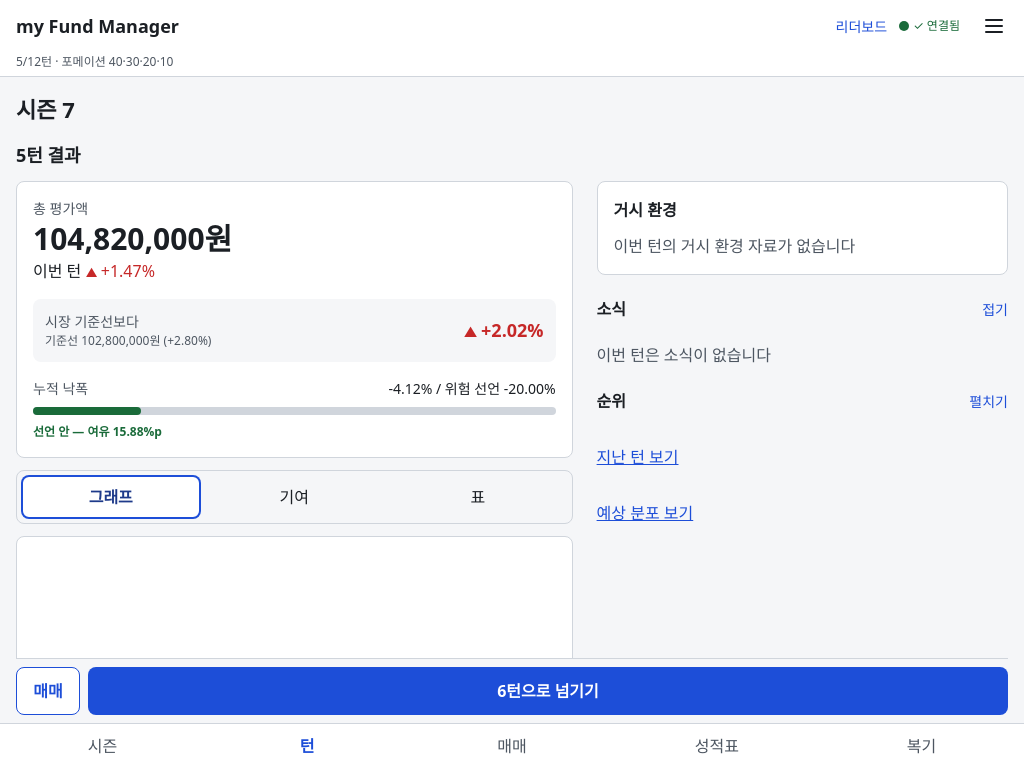
Test: ranking on the now page › asks for the board of the new turn after an advance, never a later one
Click the button "순위 펼치기": [989, 401] box [597,379,1008,423]
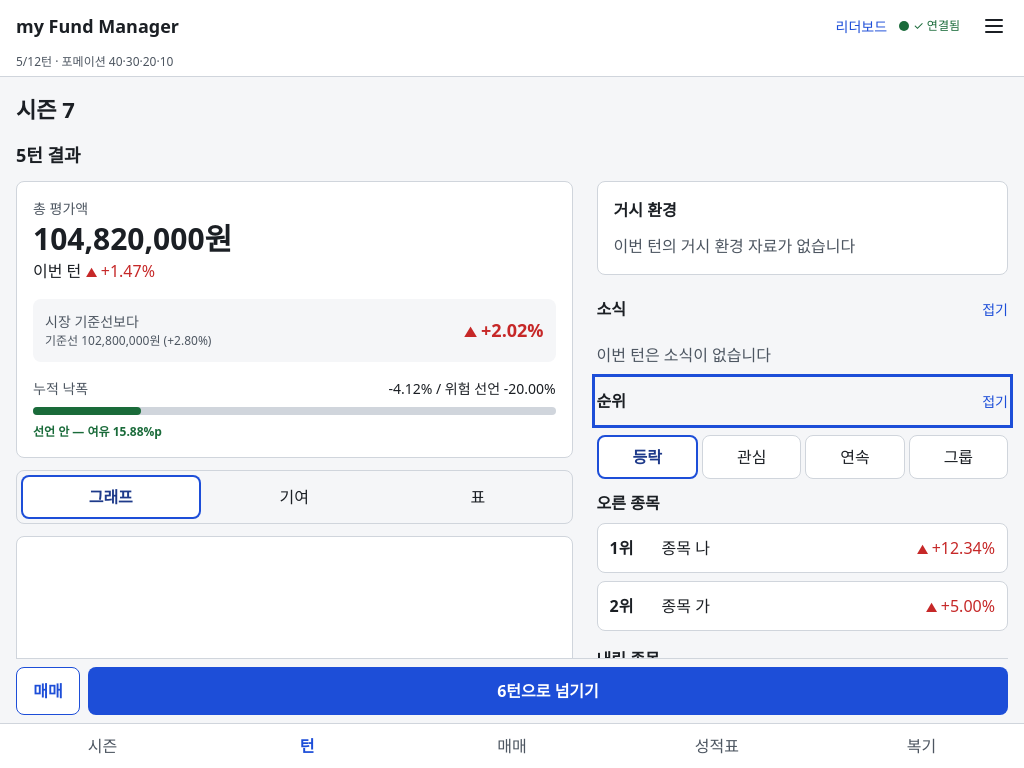
Result: the element named "순위 종류" is shown at [597,435,1008,479]
Click the button "6턴으로 넘기기": [548, 691] box [88,667,1008,715]
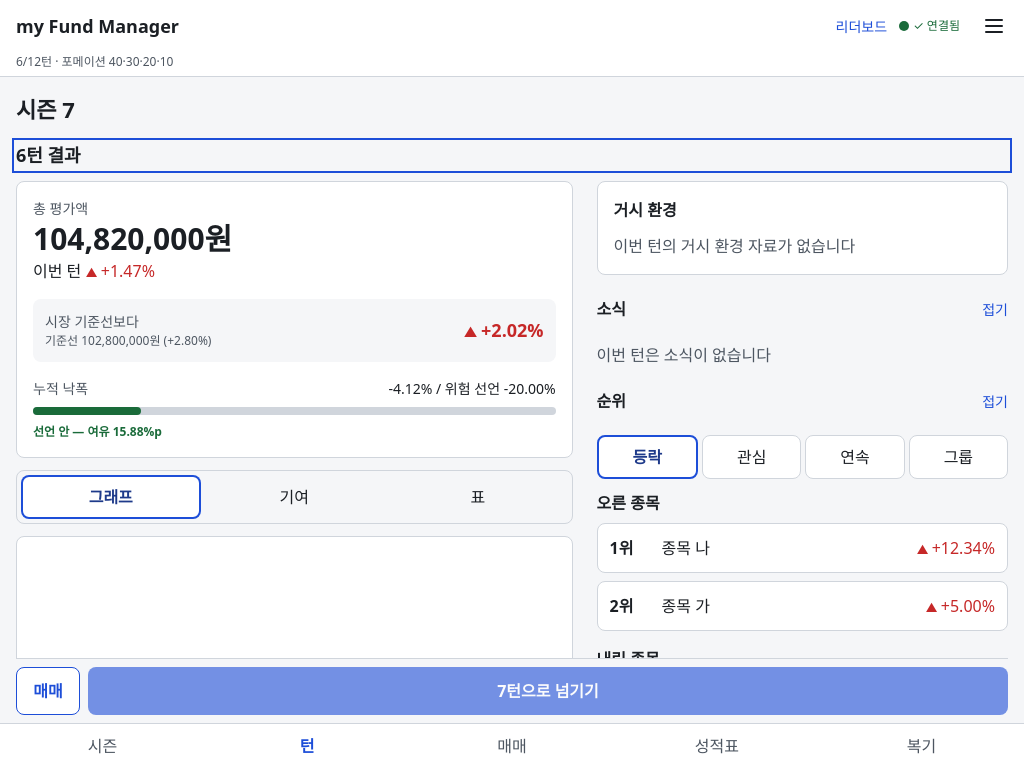
Result: the heading "6턴 결과" is shown at [16,143,81,167]
